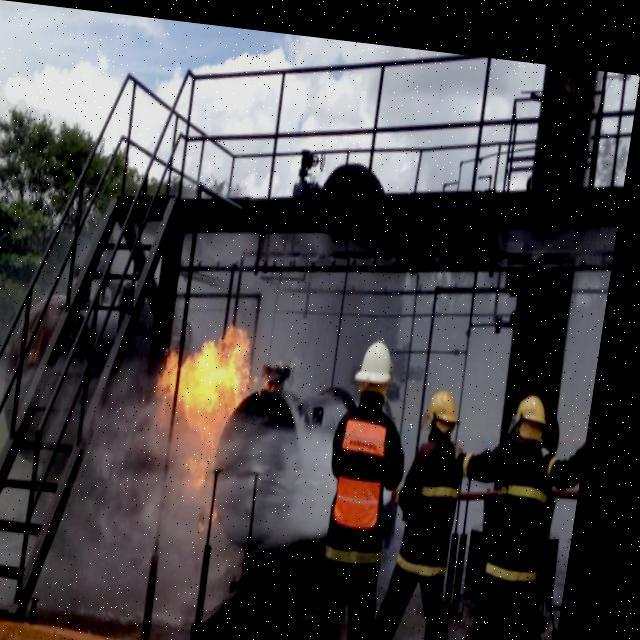Fire: (146, 310, 278, 530)
